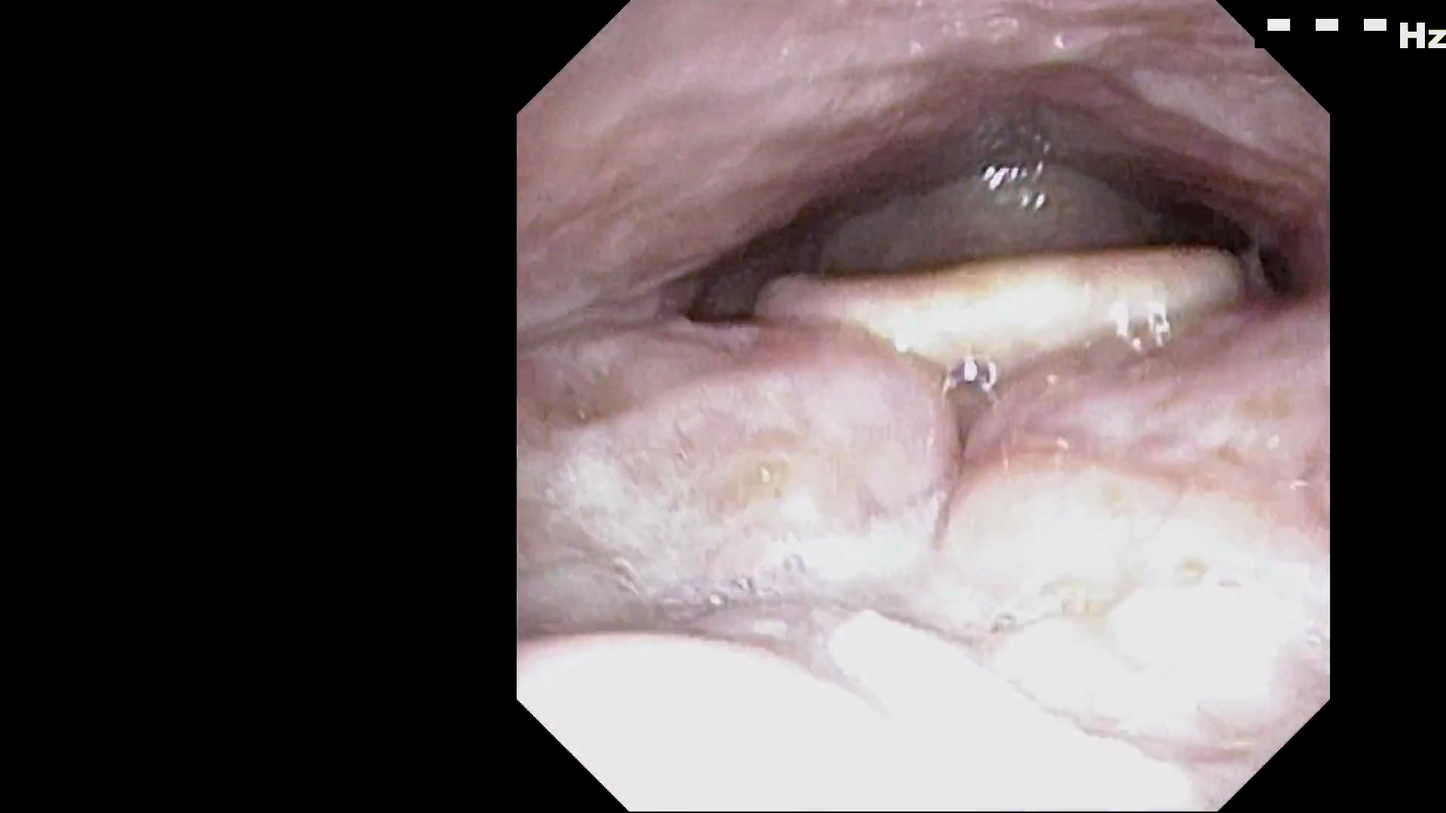epiglottis: (798, 216, 1184, 343)
